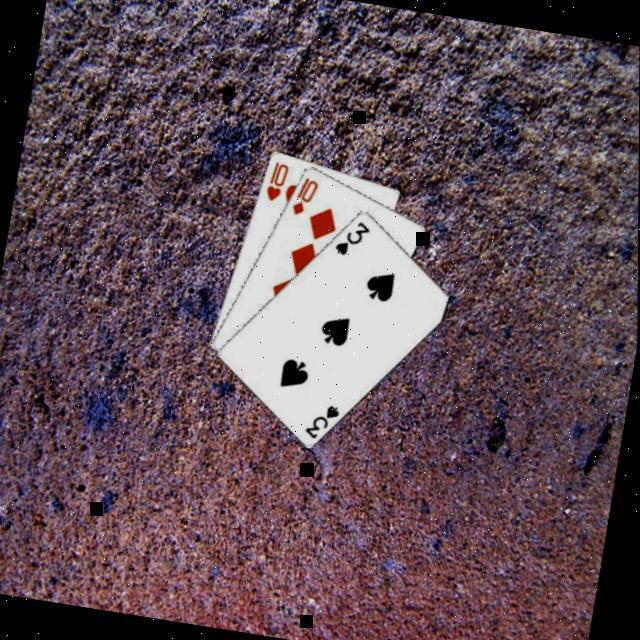10D: (290, 174, 324, 222)
10H: (263, 160, 294, 208)
3S: (334, 217, 376, 263), (304, 401, 346, 446)
